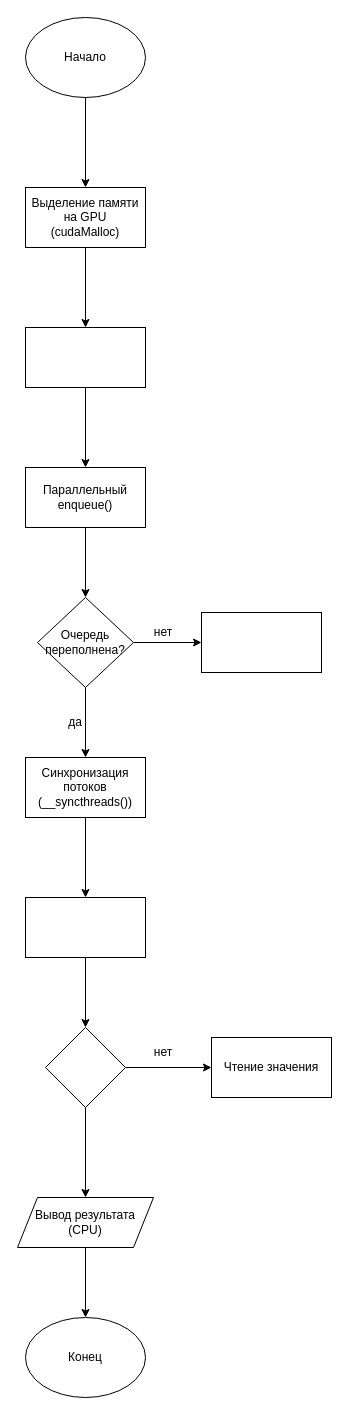
The diagram is 349 pixels wide and 1415 high, and some of its shapes have lost their labels. The shapes that lost their labels are listed below. From the top down, each one's centre as x and y in pixels, then its label:
point 85,357: Инициализация очереди
point 261,642: Запись значения
point 85,927: Параллельный dequeue
point 85,1067: Очередь пуста?
